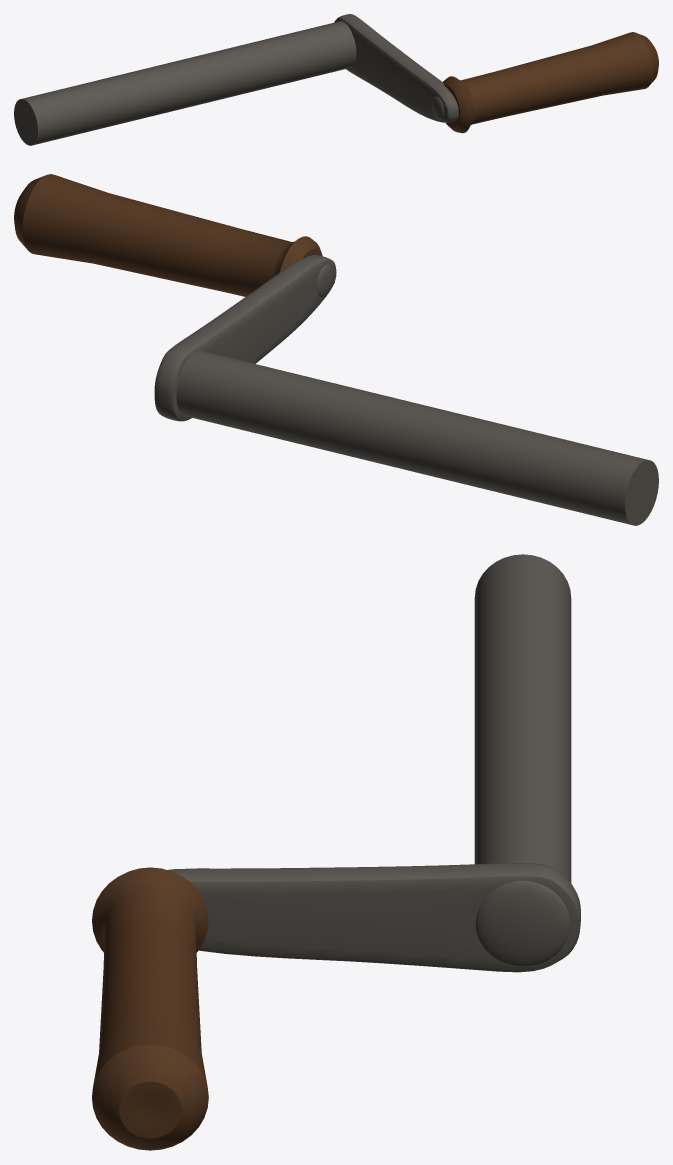
The model's file is crank.glb.
3 renders of one model, top to bottom at view 1: azimuth 30°, elevation 25°; view 2: azimuth 150°, elevation 25°; view 3: azimuth 270°, elevation 25°, orthographic. The views are drawn at different scales.
Visible parts, largest first — view 1: crank; view 2: crank; view 3: crank.
Boxes of the visible parts, <box> form: crank: <box>14,14,658,145</box>; crank: <box>14,174,658,525</box>; crank: <box>92,554,580,1150</box>.
Bounding box in the file's own units: 0.2987 × 0.03 × 0.1189.
